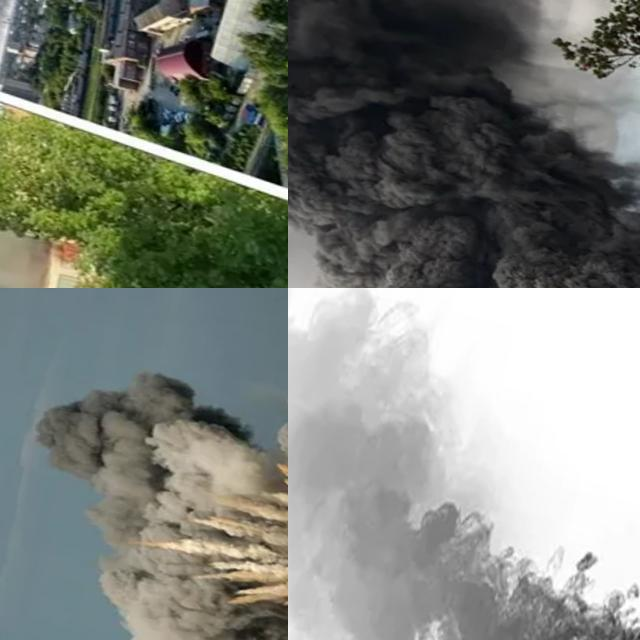smoke: (288, 288, 640, 640), (288, 0, 640, 288), (0, 288, 288, 640), (0, 34, 81, 288)
